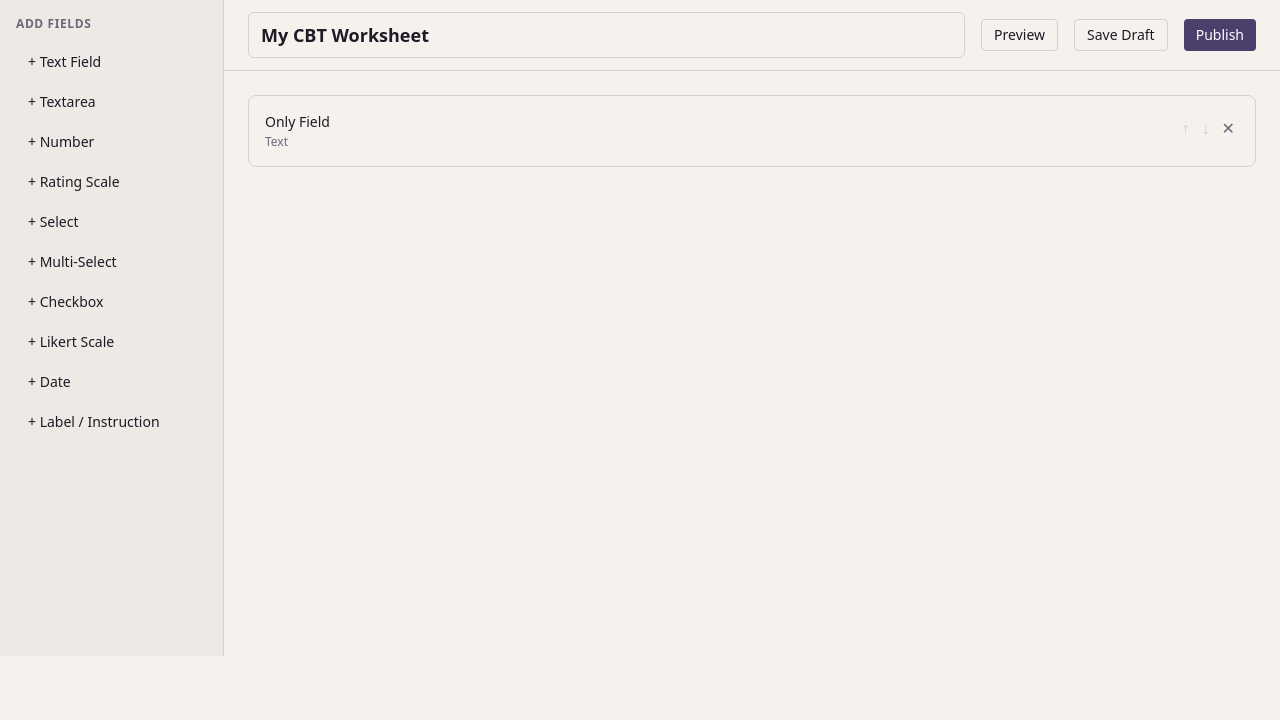
Test: Worksheet builder page › deleting all fields shows empty canvas message
expect the heading "Only Field" is shown: met, box [265,112,330,131]
Click the button named "delete field".
click(1228, 129)  # box [1218,112,1239,146]
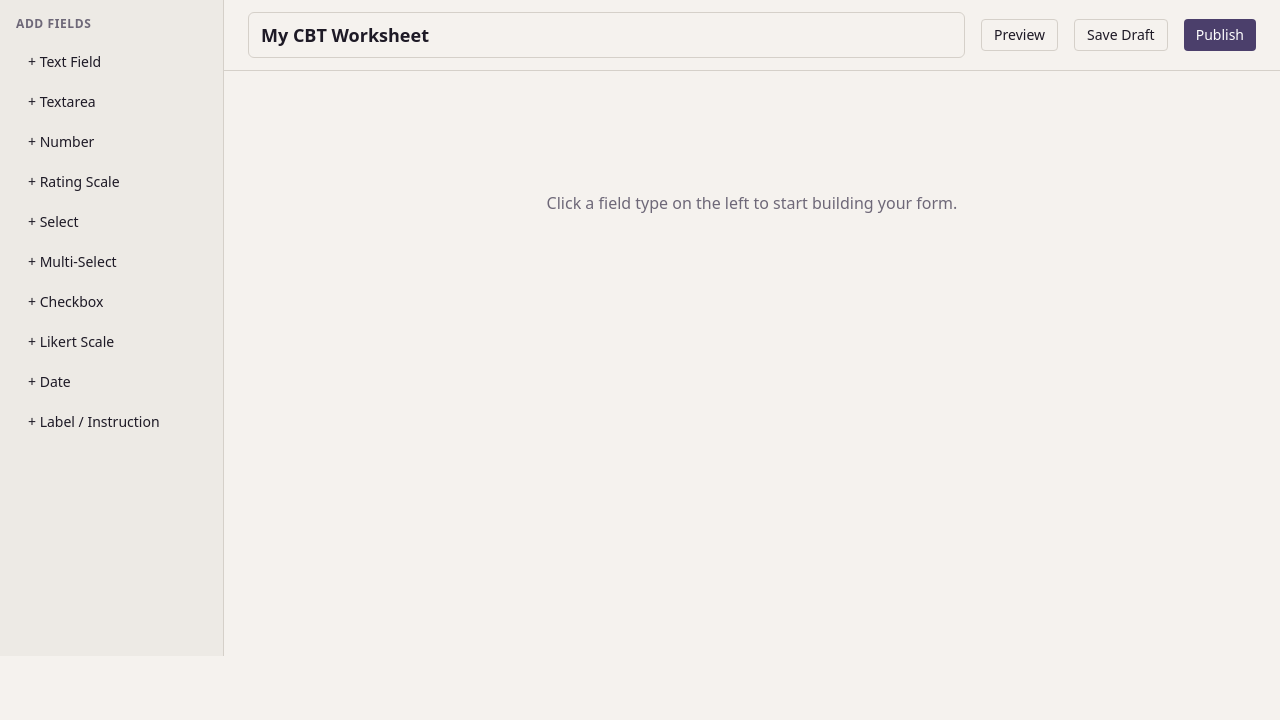
expect the text "Click a field type on the left to start building your form." is shown: met, box [547,192,957,214]
